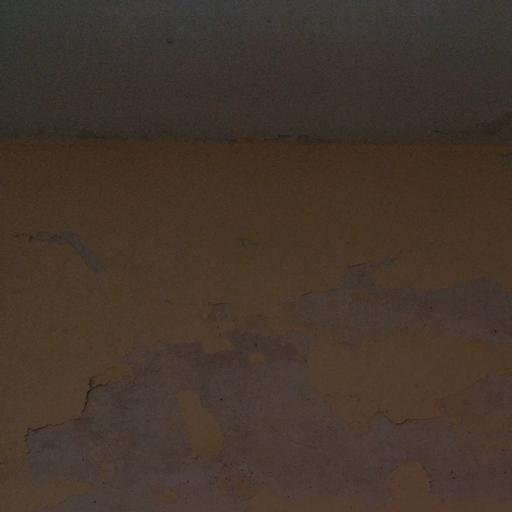peeling: (16, 300, 512, 487), (328, 250, 512, 348), (0, 206, 137, 285)
